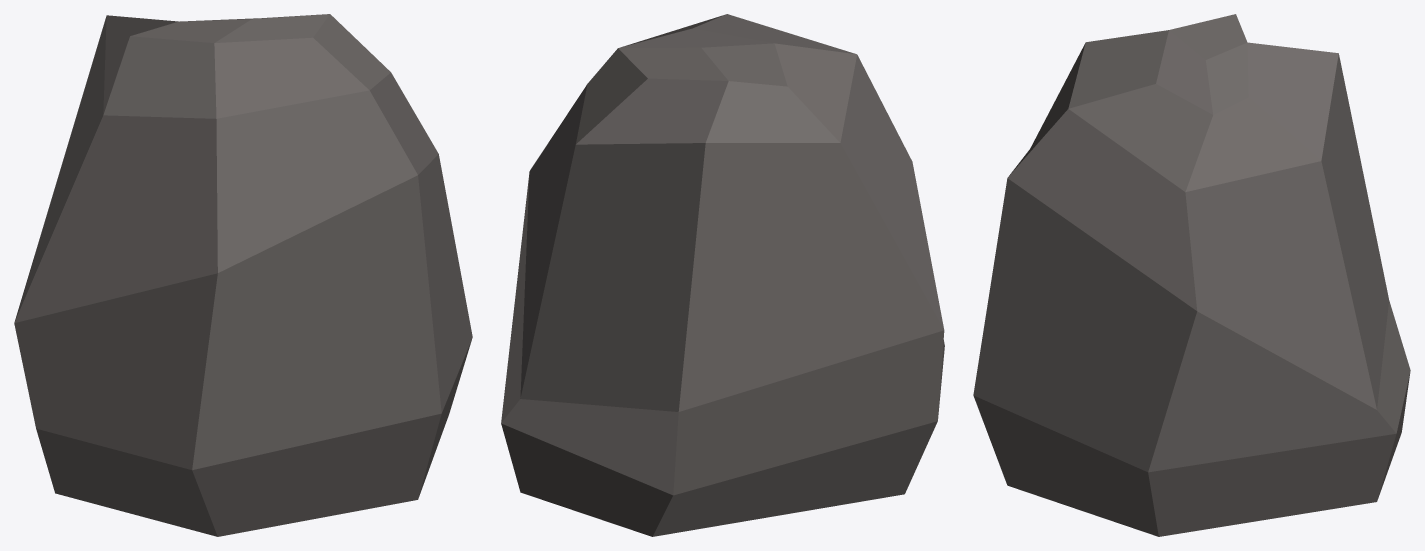
The model's file is BigRock.glb.
3 views of the same model, side by side, from view 1: azimuth 30°, elevation 25°; view 2: azimuth 150°, elevation 25°; view 3: azimuth 270°, elevation 25° (orthographic). The views are drawn at different scales.
Parts seen in each view (by area): view 1: pSphere10; view 2: pSphere10; view 3: pSphere10.
Boxes of the visible parts, bbox=[...] form: pSphere10: bbox=[14, 14, 472, 536]; pSphere10: bbox=[501, 14, 944, 536]; pSphere10: bbox=[973, 14, 1410, 536].
Size of the model in its own units: 0.4929 by 0.4576 by 0.4524.
Materials: 1 (1 with a texture image).
